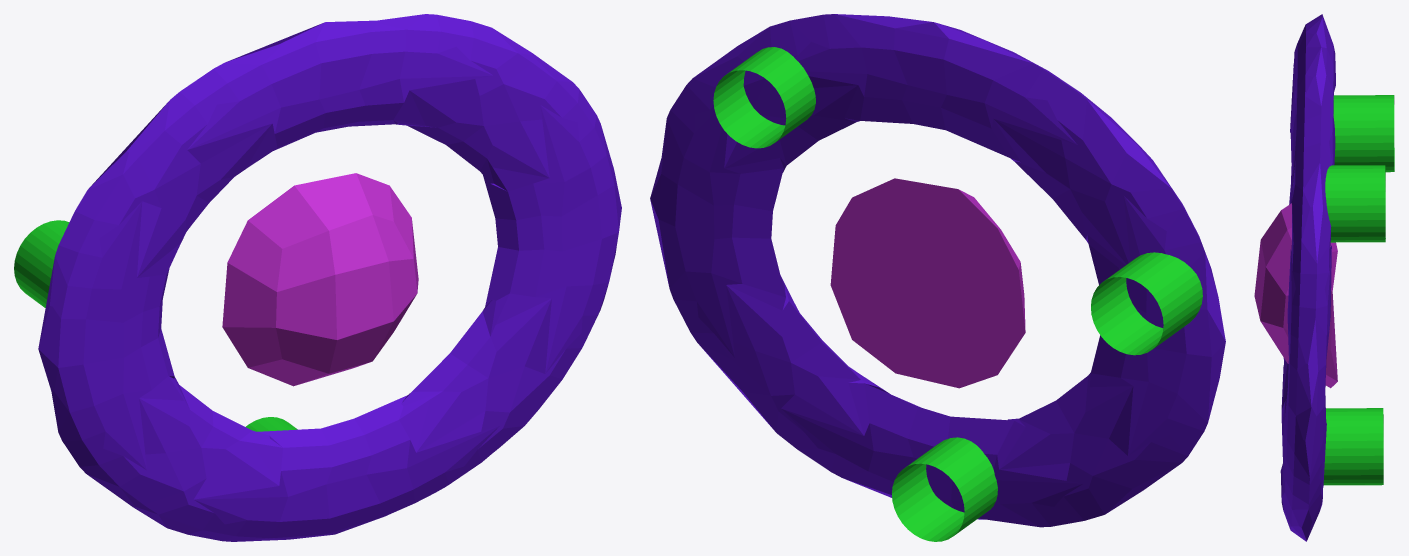
The model's file is BombSpiralLeft.fbx.
3 views of the same model, side by side, from view 1: azimuth 30°, elevation 25°; view 2: azimuth 150°, elevation 25°; view 3: azimuth 270°, elevation 25° (orthographic). The views are drawn at different scales.
Parts seen in each view (by area): view 1: Torus.001, Sphere, Cylinder.003; view 2: Torus.001, Sphere, Cylinder.003; view 3: Torus.001, Cylinder.003, Sphere.
Boxes of the visible parts, x1=… form: Torus.001: x1=38, y1=14, x2=621, y2=541; Sphere: x1=222, y1=173, x2=418, y2=386; Cylinder.003: x1=14, y1=220, x2=297, y2=431; Torus.001: x1=650, y1=14, x2=1225, y2=527; Sphere: x1=830, y1=178, x2=1025, y2=388; Cylinder.003: x1=713, y1=47, x2=1202, y2=541; Torus.001: x1=1280, y1=14, x2=1335, y2=541; Cylinder.003: x1=1323, y1=95, x2=1394, y2=485; Sphere: x1=1254, y1=203, x2=1337, y2=388.
Size of the model in its own units: 613 by 510 by 140.
